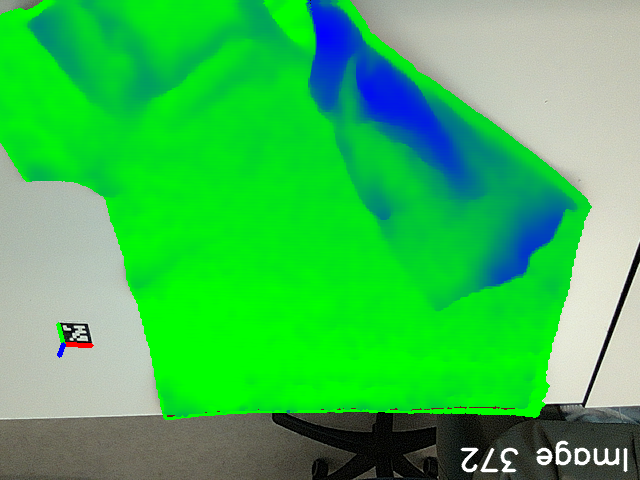V: (419, 279, 459, 319)
